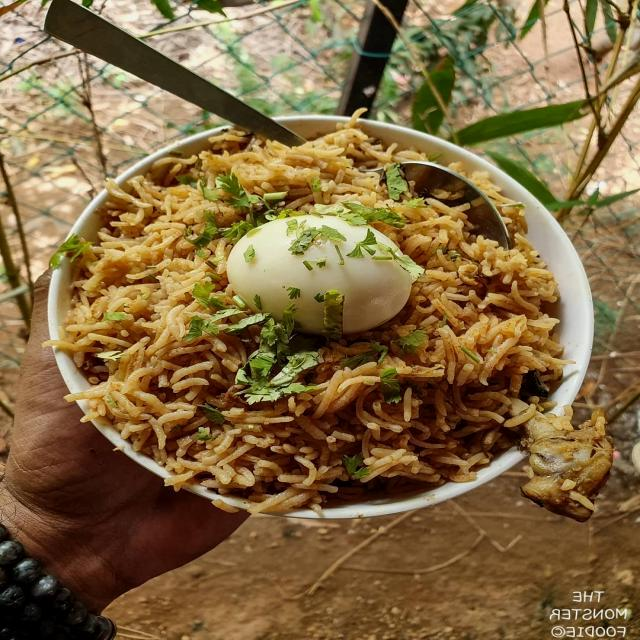biryani: (73, 96, 549, 532)
